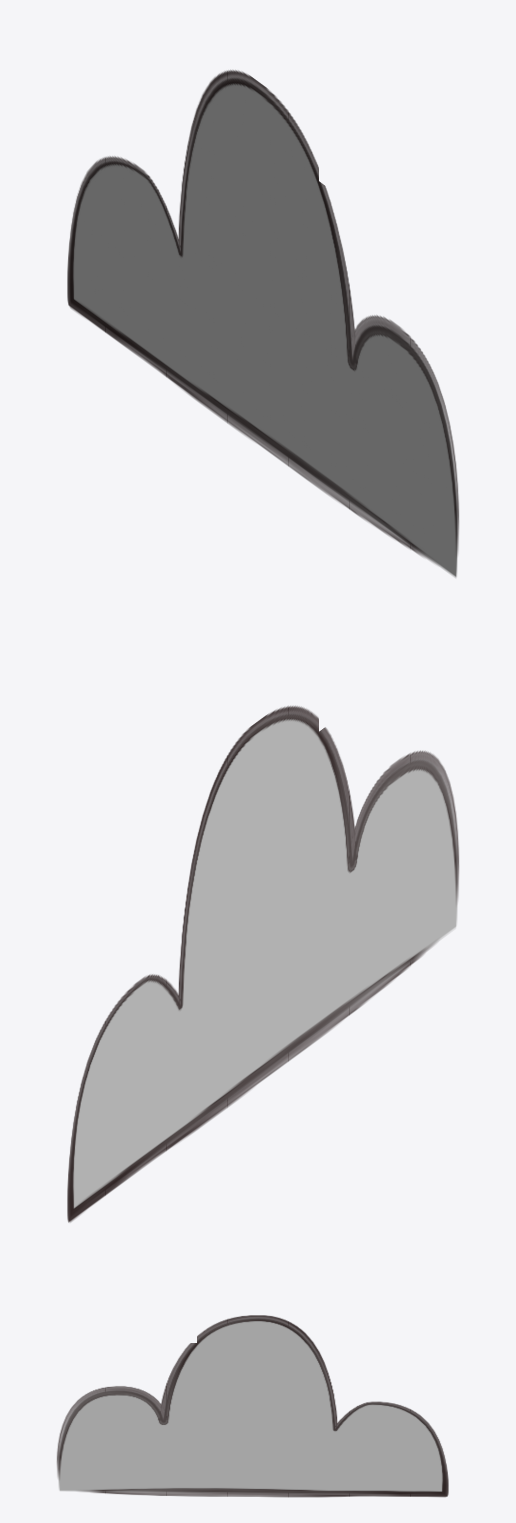
File: cloud.glb
The picture shows the model from 3 angles, top to bottom: view 1: azimuth 30°, elevation 25°; view 2: azimuth 150°, elevation 25°; view 3: azimuth 270°, elevation 25°; orthographic projection. The views are drawn at different scales.
Parts seen in each view (by area): view 1: cloud; view 2: cloud; view 3: cloud.
Part boxes in pixels (x1,y1,x2,y2): cloud: (67,70,458,577); cloud: (67,706,458,1222); cloud: (57,1315,448,1497).
Size of the model in its own units: 0 by 0.4375 by 1.
Materials: 1 (1 with a texture image).
